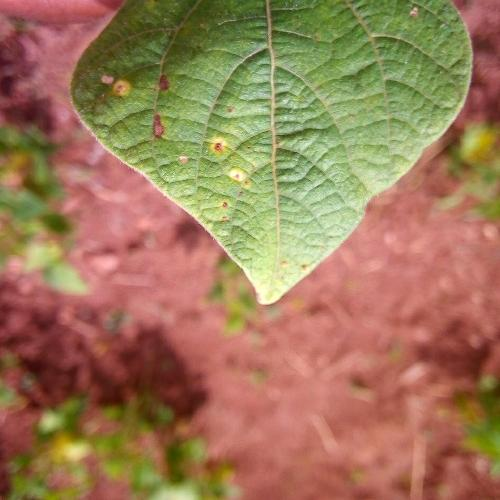hawar: (136, 73, 182, 150)
mozaik: (89, 0, 438, 199)
